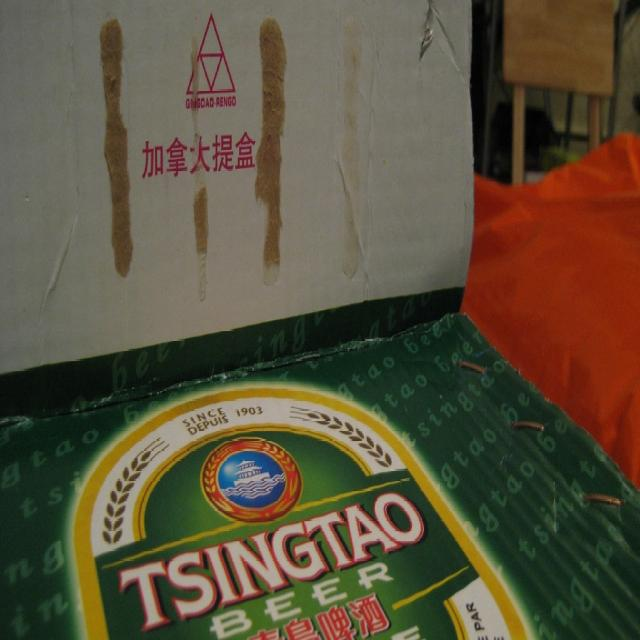tsingtao: (72, 381, 531, 640)
